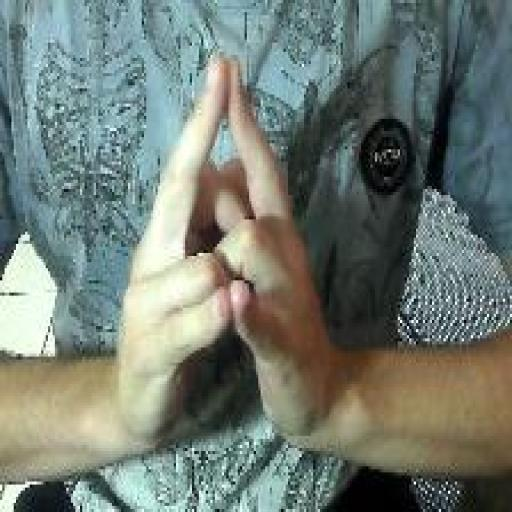Tori -bird-: (114, 49, 336, 457)
